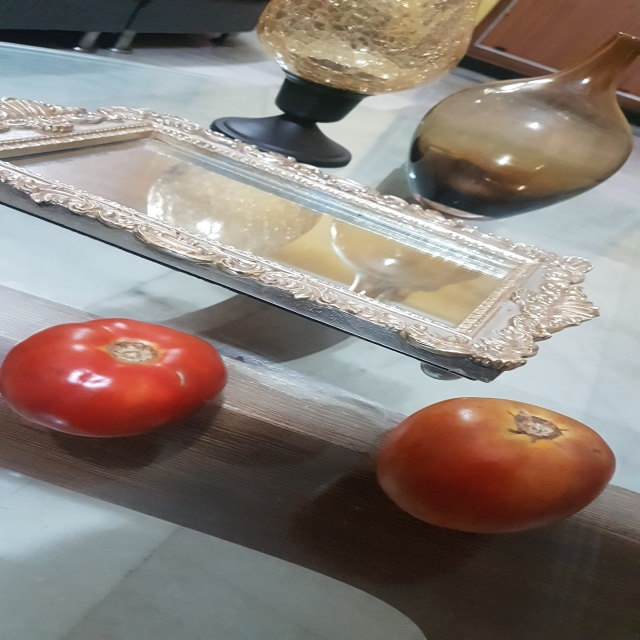tomato: (372, 376, 619, 536), (1, 297, 226, 440)
